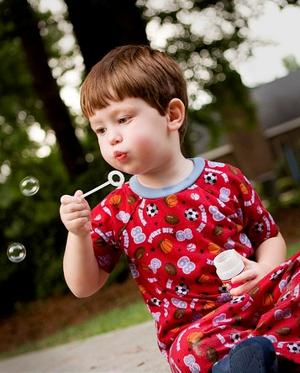person: (60, 45, 300, 373)
